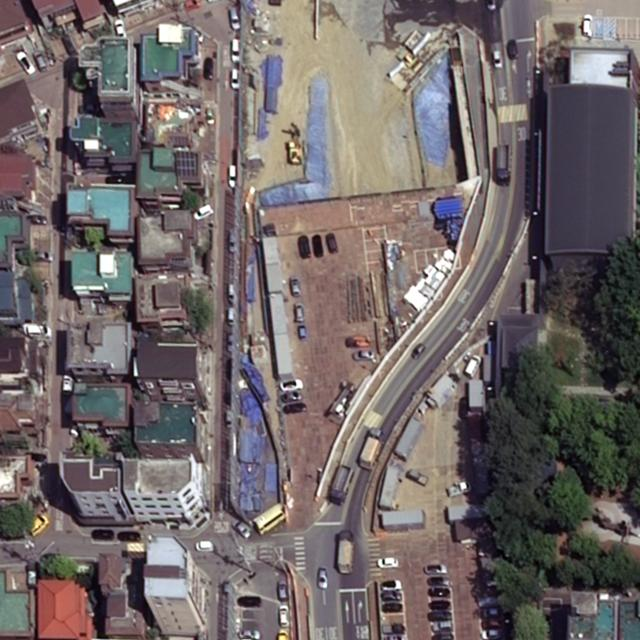panel: (174, 149, 198, 178)
